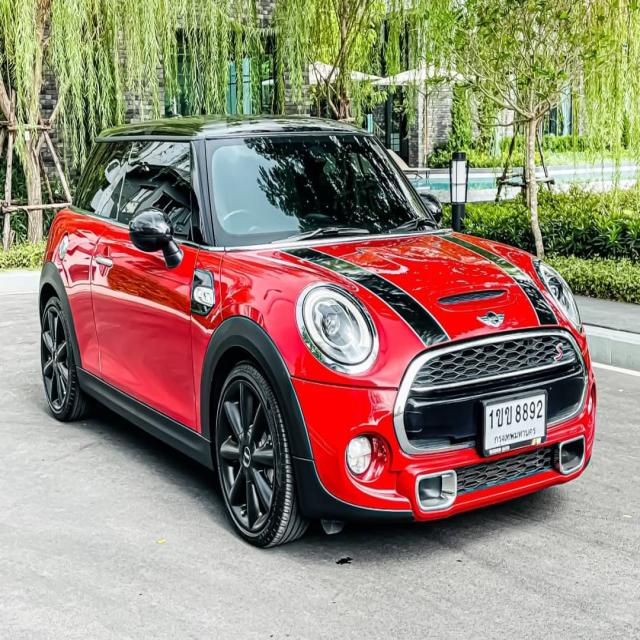license_plate: (480, 385, 551, 460)
